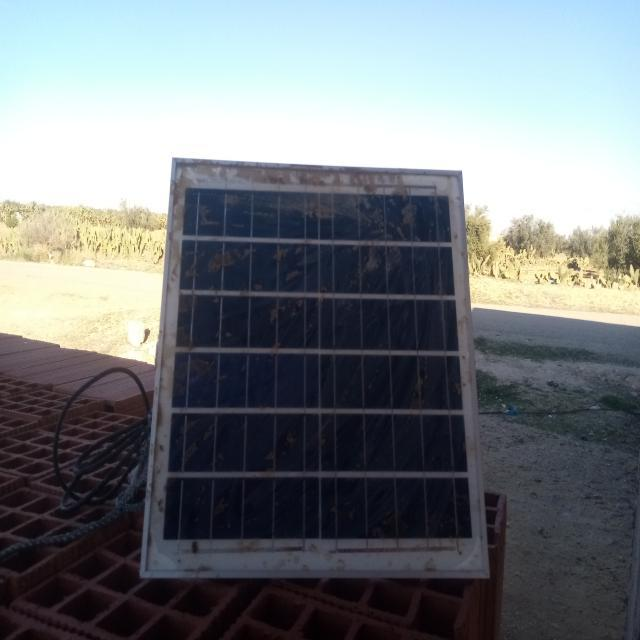faulty: (143, 158, 492, 578)
